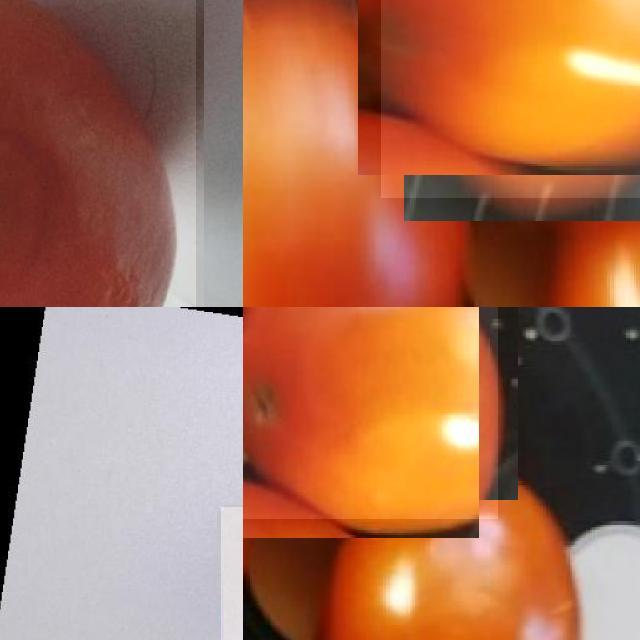Fresh Tomato: (243, 0, 484, 307), (243, 307, 498, 519), (381, 0, 640, 198), (318, 465, 582, 640), (528, 173, 640, 307)
Rotten Tomato: (0, 0, 196, 307)
